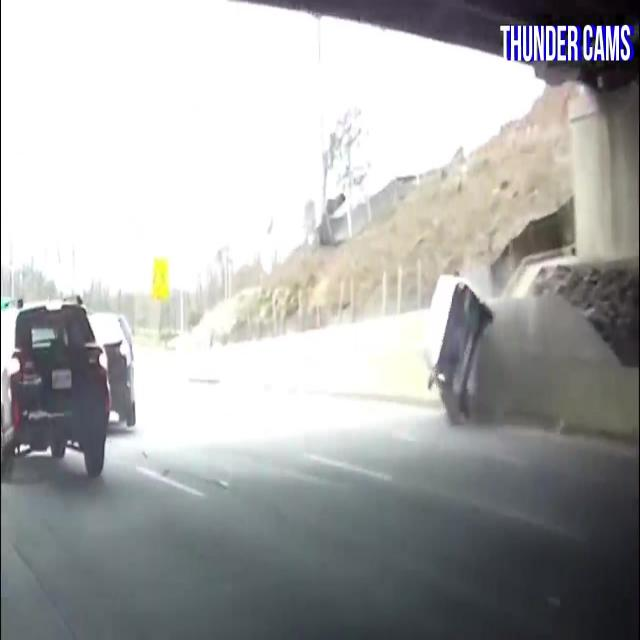accident: (416, 263, 501, 433)
